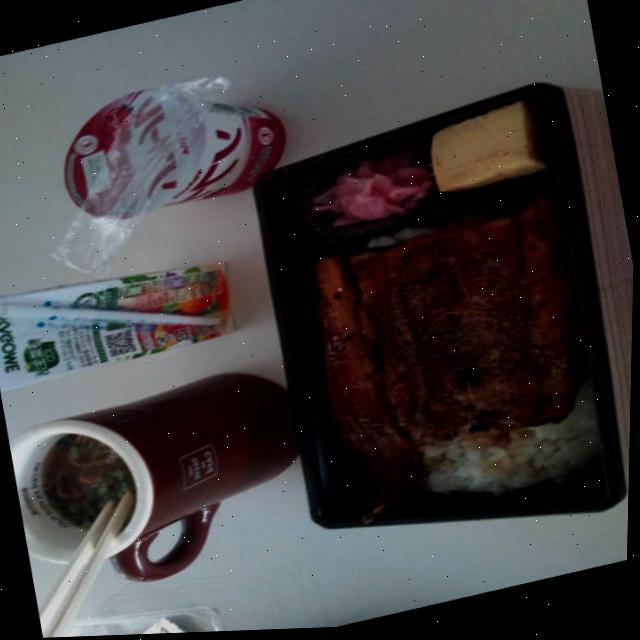汤锅炖物: (32, 419, 155, 550)
